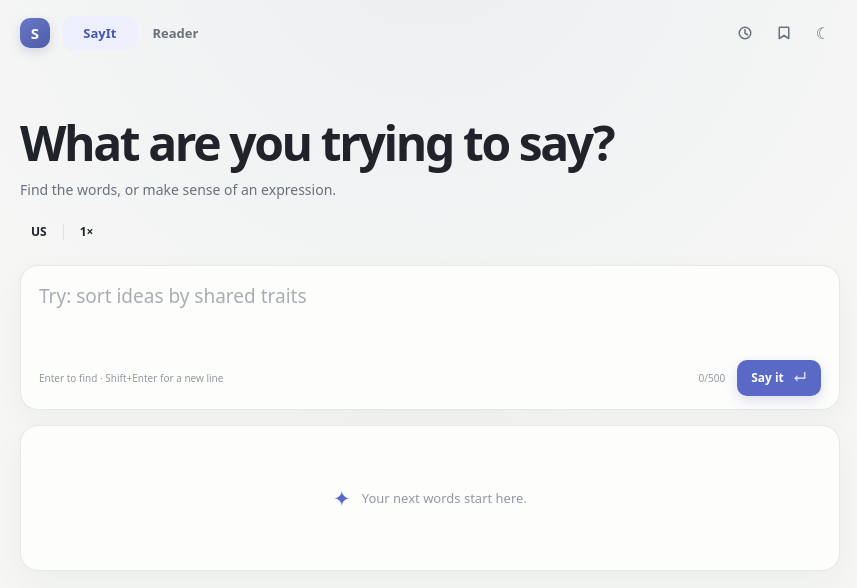
shared History navigation › stays on the latest issue list across a SayIt round trip
(page scrolled)
Click the button "Reader": x=175, y=33 [139,16,212,50]
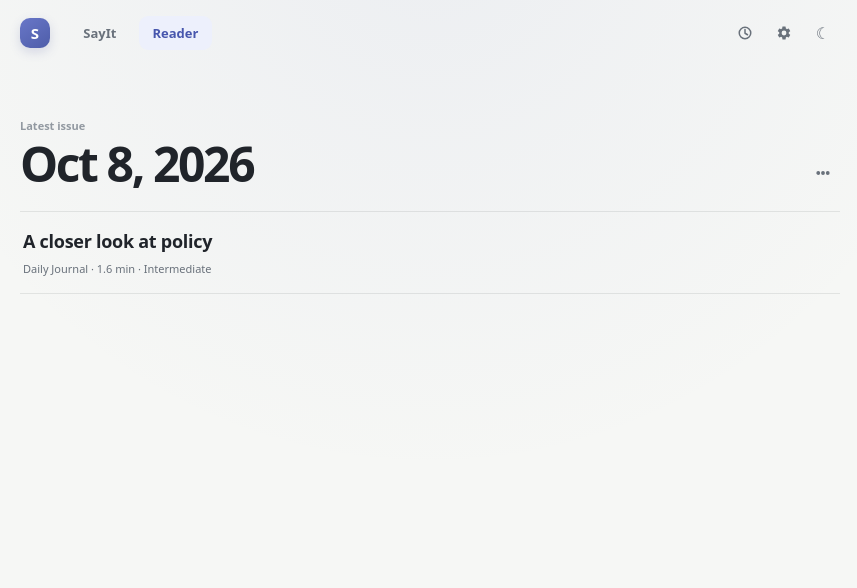
expect the text with class "reader-eyebrow" reads "Latest issue": met, box [20,118,85,133]
Click the button "SayIt": x=100, y=33 [63,16,137,50]
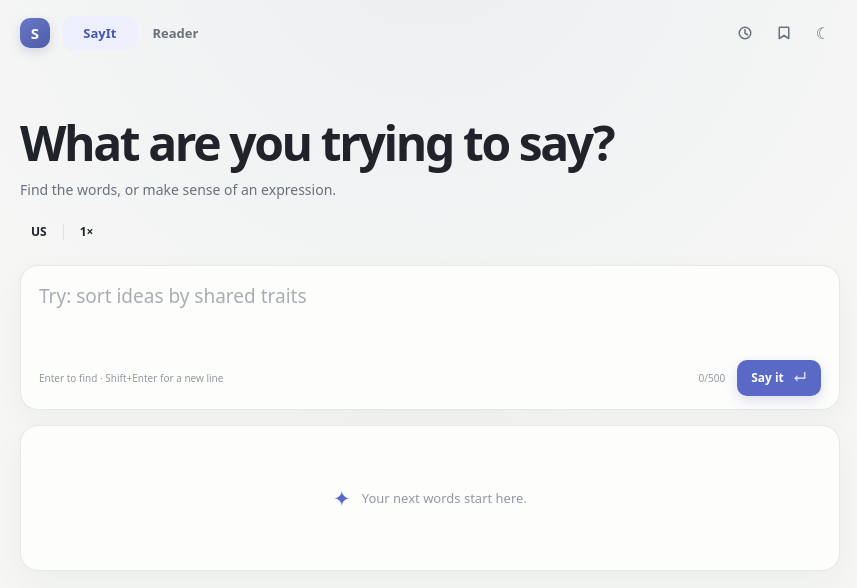
Click the button "Reader": x=175, y=33 [139,16,212,50]
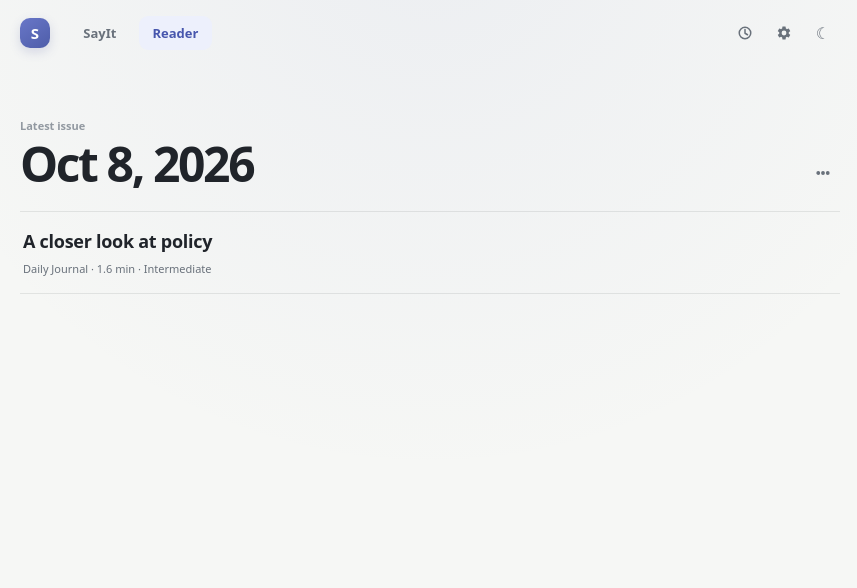
expect the text with class "reader-eyebrow" reads "Latest issue": met, box [20,118,85,133]
